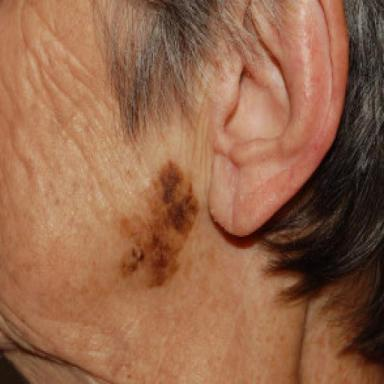Melanoma: (120, 158, 201, 288)
